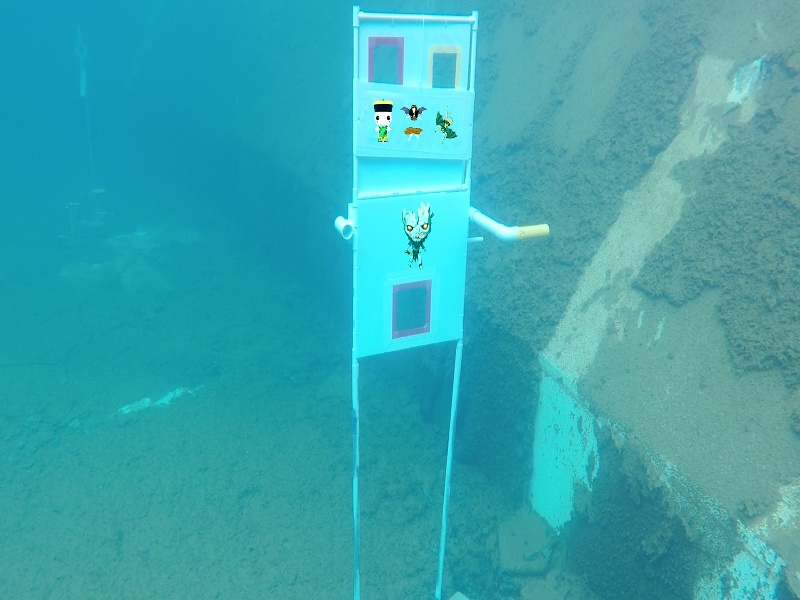Aswang: (400, 101, 428, 145)
Draugr: (400, 200, 435, 270)
Jiangshi: (371, 97, 394, 144)
Vetalas: (433, 103, 459, 146)
